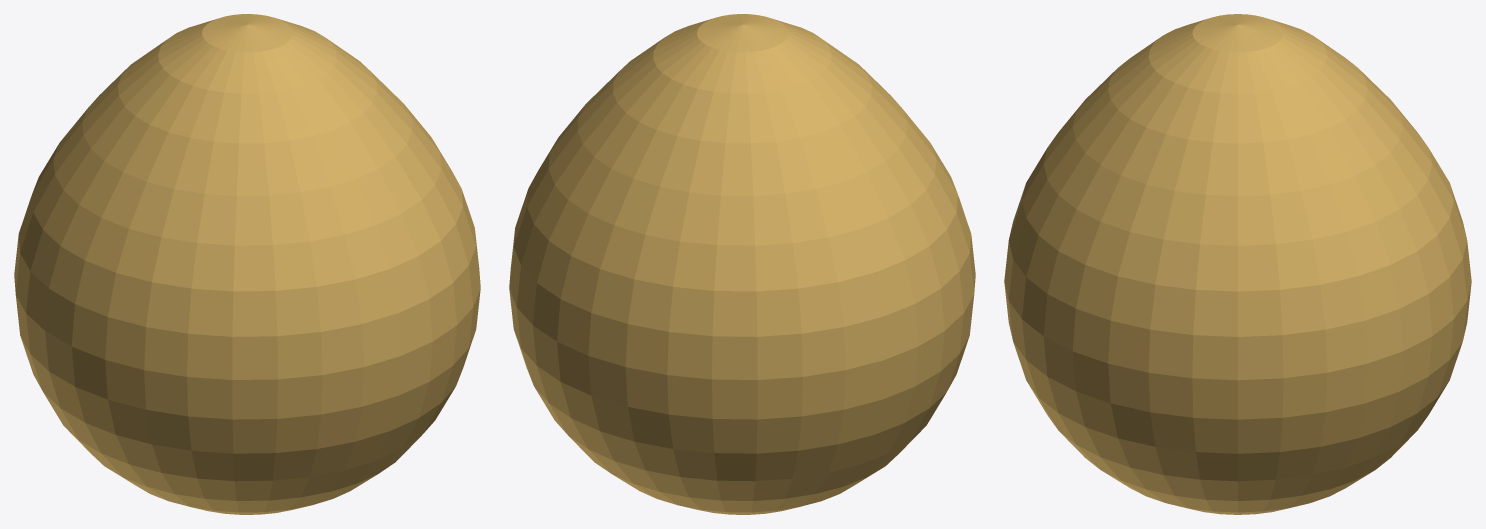
Rendered from hzl4.fbx.
The picture shows the model from 3 angles, left to right: view 1: azimuth 30°, elevation 25°; view 2: azimuth 150°, elevation 25°; view 3: azimuth 270°, elevation 25°; orthographic projection.
Parts seen in each view (by area): view 1: Sphere; view 2: Sphere; view 3: Sphere.
Boxes of the visible parts, left/top/right/bottom form: Sphere: left=14, top=14, right=480, bottom=514; Sphere: left=509, top=14, right=975, bottom=514; Sphere: left=1004, top=14, right=1471, bottom=514.
Bounding box in the file's own units: 72.59 × 80.29 × 72.59.
